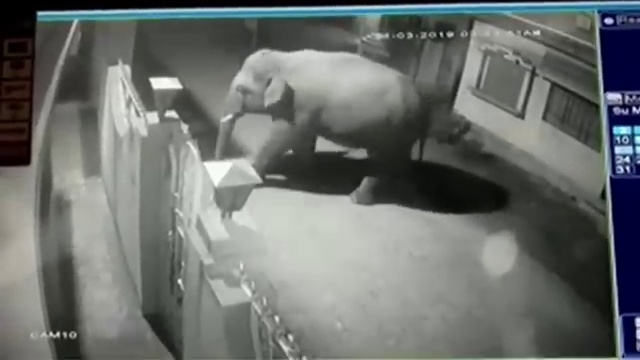Elephant: (214, 49, 428, 206)
